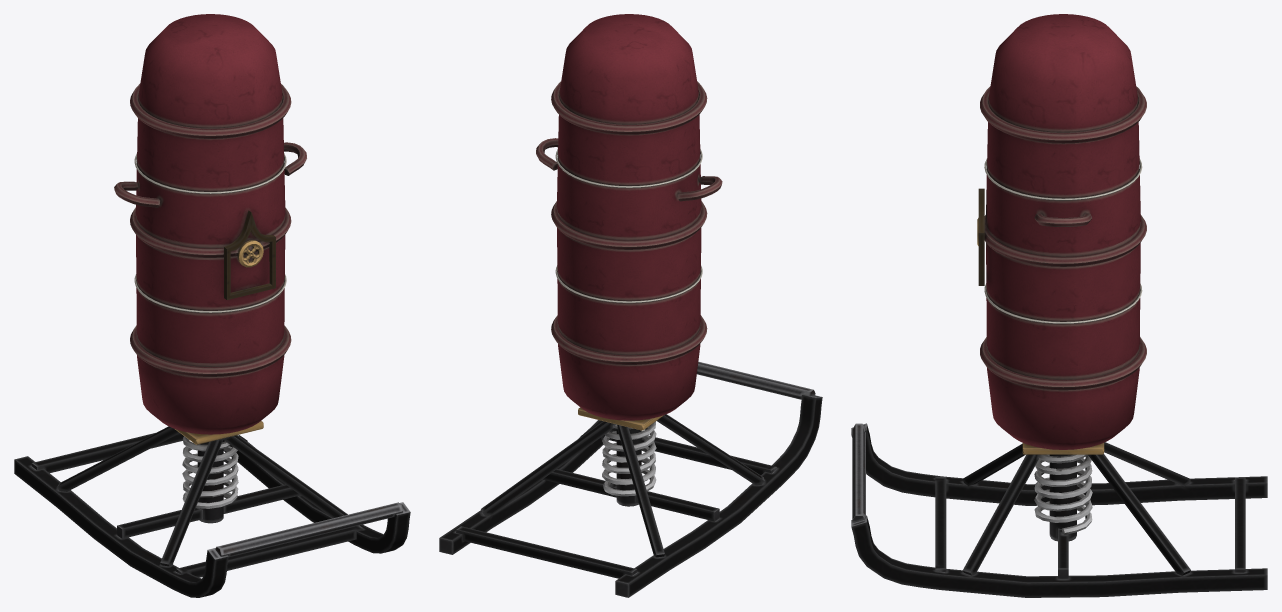
Rendered from TackleDummy.fbx.
The picture shows the model from 3 angles, left to right: view 1: azimuth 30°, elevation 25°; view 2: azimuth 150°, elevation 25°; view 3: azimuth 270°, elevation 25°; orthographic projection. The views are drawn at different scales.
Parts seen in each view (by area): view 1: TackleDummy; view 2: TackleDummy; view 3: TackleDummy.
Part boxes in pixels (box(x1,y1,x2,y2)): TackleDummy: box(14, 14, 410, 597); TackleDummy: box(439, 14, 822, 597); TackleDummy: box(851, 14, 1267, 597).
Bounding box in the file's own units: 172 × 420 × 306.
